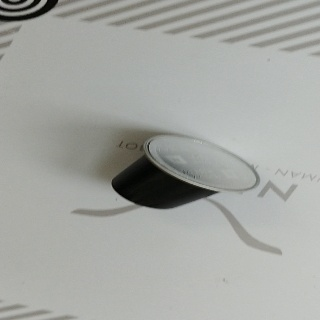capsule_10: (110, 133, 261, 210)
